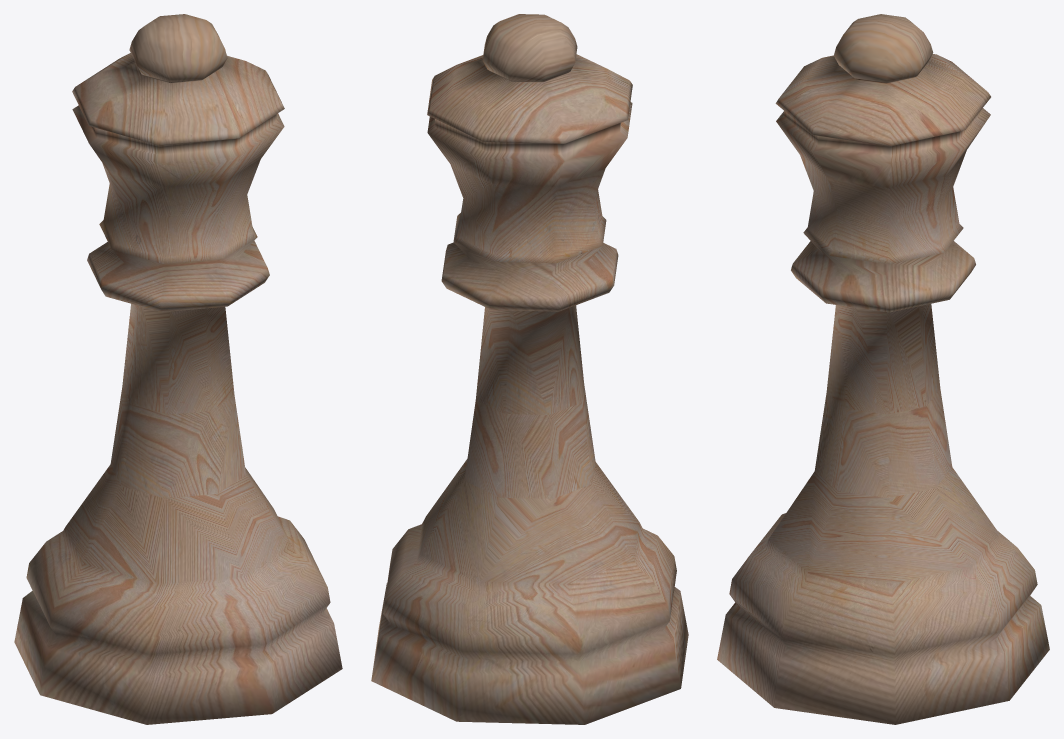
3 renders of one model, left to right at view 1: azimuth 30°, elevation 25°; view 2: azimuth 150°, elevation 25°; view 3: azimuth 270°, elevation 25°, orthographic.
Parts seen in each view (by area): view 1: WhiteQueen; view 2: WhiteQueen; view 3: WhiteQueen.
Boxes of the visible parts, bbox=[...] form: WhiteQueen: bbox=[14, 14, 342, 724]; WhiteQueen: bbox=[371, 14, 688, 724]; WhiteQueen: bbox=[717, 14, 1049, 724].
Bounding box in the file's own units: 0.0296 × 0.0621 × 0.0296.
Materials: 1 (1 with a texture image).
